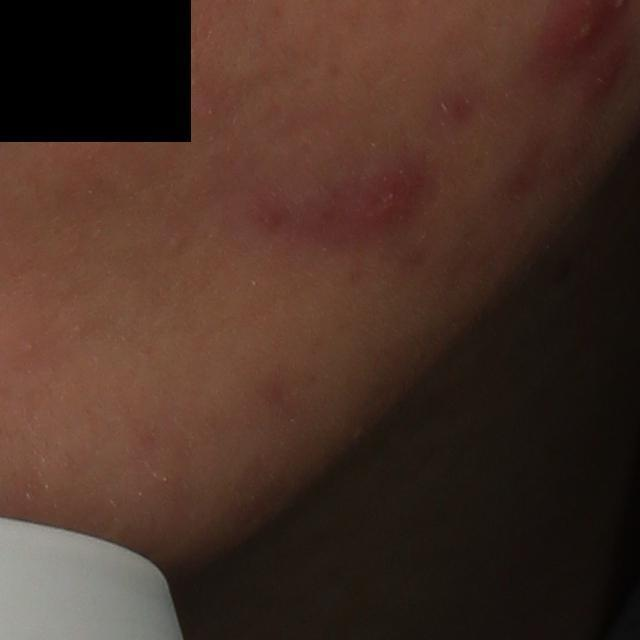papule: (333, 157, 423, 236), (585, 47, 623, 103)
